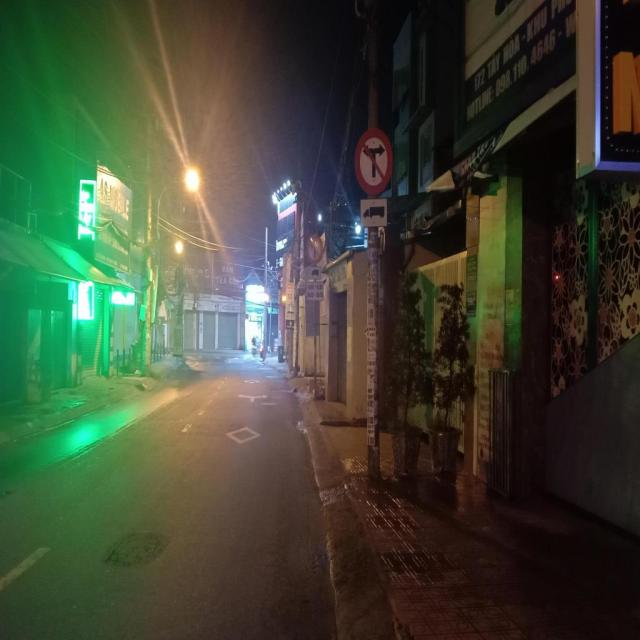cam_re_trai_va_phai: (355, 127, 393, 195), (306, 233, 324, 266)
khac: (361, 200, 387, 228), (307, 282, 323, 301), (308, 266, 320, 278)
